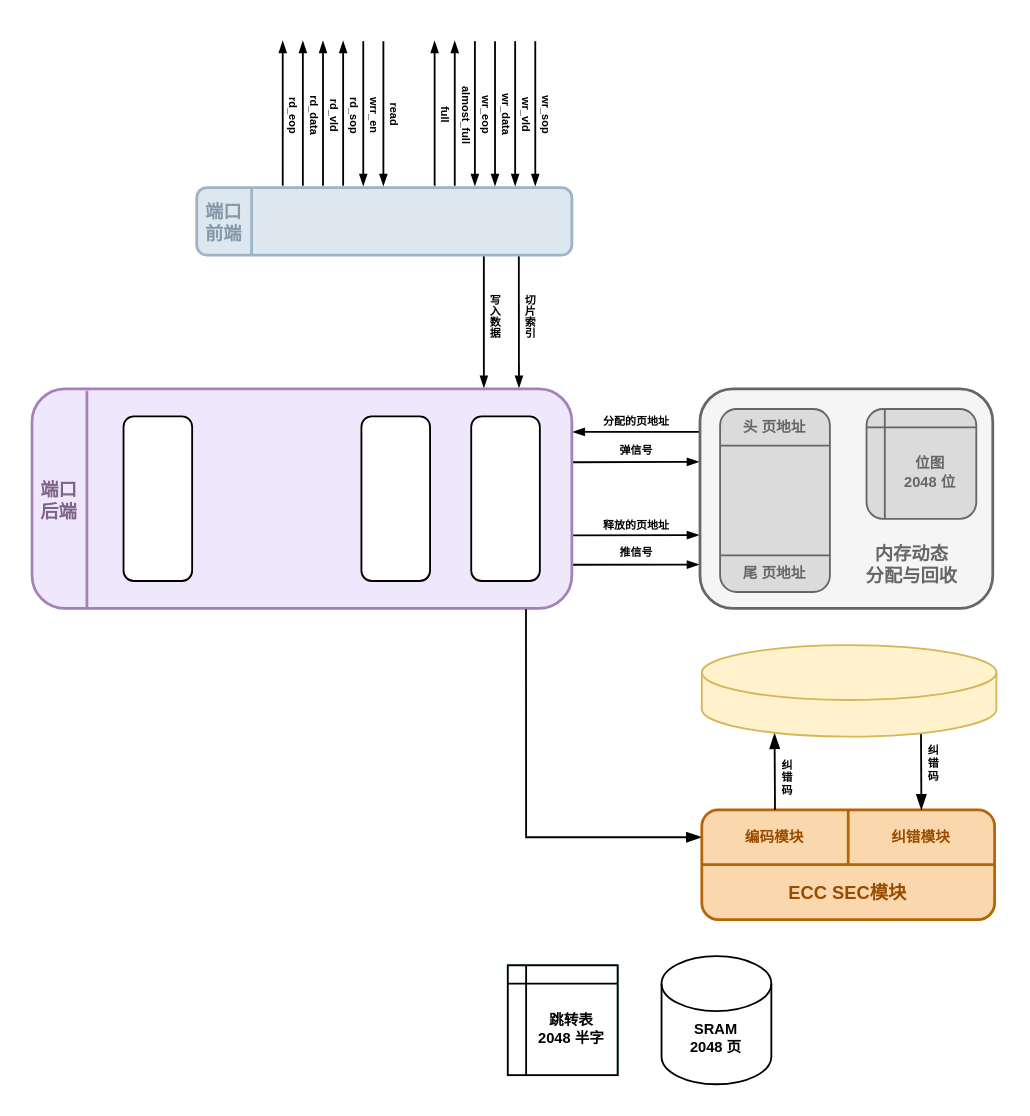
This 1030x1116 diagram has some shape labels left out. The centre of each missing label's shape, as x and y in pixels:
"校验码存储" goes at (x=848, y=690).
"空闲队列 2048 页地址" goes at (x=774, y=499).
